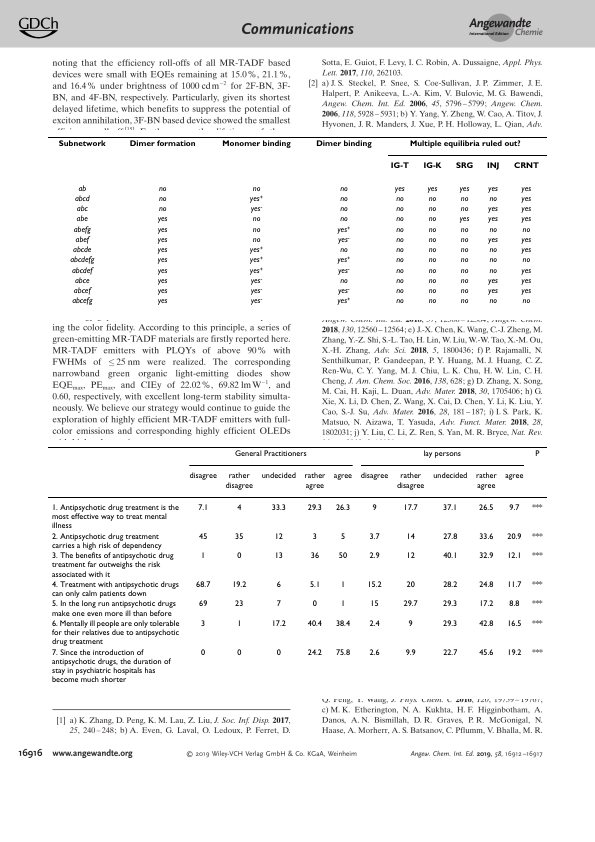borderless: (46, 445, 548, 693), (46, 135, 548, 314)
cell: (50, 648, 171, 685), (50, 619, 180, 647), (50, 503, 179, 531), (50, 551, 174, 580), (50, 599, 176, 619), (50, 580, 179, 599), (50, 532, 162, 551), (408, 140, 521, 149), (233, 449, 307, 459), (221, 140, 291, 149), (128, 140, 196, 149), (395, 472, 425, 491), (224, 472, 253, 491), (315, 140, 372, 149), (57, 140, 106, 149), (303, 472, 326, 491), (474, 472, 497, 491), (422, 449, 461, 459), (260, 472, 296, 481), (432, 472, 468, 481), (359, 472, 389, 481), (188, 472, 217, 481), (513, 162, 539, 171), (69, 256, 95, 265), (70, 266, 93, 276), (71, 297, 93, 306), (72, 225, 91, 235), (332, 472, 353, 481), (504, 472, 524, 481), (389, 162, 409, 171), (422, 162, 442, 171), (454, 162, 474, 171), (72, 246, 92, 255), (72, 287, 91, 296), (334, 619, 351, 629), (334, 648, 351, 658), (73, 194, 90, 204), (73, 276, 90, 286), (270, 503, 286, 513), (306, 503, 322, 513), (334, 503, 350, 513), (402, 503, 418, 513), (442, 503, 458, 513), (478, 503, 494, 513), (442, 532, 458, 542), (478, 532, 494, 542), (506, 532, 522, 542), (442, 551, 458, 561), (478, 551, 494, 561), (506, 551, 522, 561), (195, 580, 211, 590), (231, 580, 247, 590), (366, 580, 382, 590), (442, 580, 458, 590), (478, 580, 494, 590), (506, 580, 522, 590), (402, 599, 418, 609), (442, 599, 458, 609), (478, 599, 494, 609), (270, 619, 286, 629), (306, 619, 322, 629), (442, 619, 458, 629), (478, 619, 494, 629), (506, 619, 522, 629), (306, 648, 322, 658), (442, 648, 458, 658), (478, 648, 494, 658), (506, 648, 522, 658), (74, 235, 90, 245), (249, 194, 264, 204), (336, 225, 351, 235), (249, 266, 264, 276), (249, 276, 263, 286), (485, 162, 500, 171), (249, 246, 264, 255), (249, 256, 264, 265), (336, 256, 351, 265), (336, 297, 351, 306), (337, 235, 350, 245), (337, 266, 350, 276), (249, 205, 263, 214), (249, 287, 263, 296), (249, 297, 263, 306), (197, 503, 209, 513), (508, 503, 520, 513), (531, 503, 543, 513), (368, 532, 380, 542), (531, 532, 543, 542), (368, 551, 380, 561), (531, 551, 543, 561), (308, 580, 320, 590), (531, 580, 543, 590), (508, 599, 520, 609), (531, 599, 543, 609), (368, 619, 380, 629), (531, 619, 543, 629), (368, 648, 380, 658), (404, 648, 416, 658), (531, 648, 543, 658), (426, 184, 438, 194), (458, 184, 470, 194), (520, 184, 532, 194), (520, 194, 532, 204), (156, 225, 168, 235), (156, 235, 168, 245), (520, 235, 532, 245), (156, 266, 168, 276), (520, 266, 532, 276), (156, 276, 168, 286), (520, 276, 532, 286), (75, 205, 88, 214), (75, 215, 88, 224), (337, 287, 350, 296), (309, 551, 320, 561), (337, 551, 348, 561), (394, 184, 405, 194), (487, 184, 498, 194), (487, 235, 498, 245), (487, 276, 498, 286), (520, 205, 532, 214), (156, 215, 168, 224), (458, 215, 470, 224), (520, 215, 532, 224), (156, 246, 168, 255), (520, 246, 532, 255), (156, 256, 168, 265), (156, 287, 168, 296), (520, 287, 532, 296), (156, 297, 168, 306), (198, 532, 208, 542), (234, 532, 244, 542), (273, 532, 283, 542), (405, 532, 415, 542), (273, 551, 283, 561), (405, 551, 415, 561), (405, 580, 415, 590), (198, 599, 208, 609), (234, 599, 244, 609), (369, 599, 379, 609), (77, 184, 87, 194), (157, 184, 167, 194), (251, 184, 261, 194), (157, 194, 167, 204), (427, 194, 437, 204), (459, 194, 469, 204), (251, 225, 261, 235), (427, 225, 437, 235), (459, 225, 469, 235), (521, 225, 531, 235), (251, 235, 261, 245), (427, 235, 437, 245), (459, 235, 469, 245), (427, 266, 437, 276), (459, 266, 469, 276), (427, 276, 437, 286), (459, 276, 469, 286), (487, 205, 498, 214), (487, 215, 498, 224), (487, 287, 498, 296), (339, 184, 348, 194), (339, 194, 348, 204), (395, 194, 404, 204), (488, 194, 497, 204), (157, 205, 167, 214), (427, 205, 437, 214), (459, 205, 469, 214), (251, 215, 261, 224), (427, 215, 437, 224), (395, 225, 404, 235), (488, 225, 497, 235), (395, 235, 404, 245), (427, 246, 437, 255), (459, 246, 469, 255), (427, 256, 437, 265), (459, 256, 469, 265), (521, 256, 531, 265), (395, 266, 404, 276), (488, 266, 497, 276), (339, 276, 348, 286), (395, 276, 404, 286), (427, 287, 437, 296), (459, 287, 469, 296), (427, 297, 437, 306), (459, 297, 469, 306), (521, 297, 531, 306), (339, 205, 348, 214), (395, 205, 404, 214), (339, 215, 348, 224), (395, 215, 404, 224), (339, 246, 348, 255), (395, 246, 404, 255), (488, 246, 497, 255), (395, 256, 404, 265), (488, 256, 497, 265), (395, 287, 404, 296), (395, 297, 404, 306), (488, 297, 497, 306), (339, 532, 346, 542), (339, 580, 346, 590), (339, 599, 346, 609), (534, 449, 540, 459), (236, 503, 242, 513), (371, 503, 377, 513), (311, 532, 317, 542), (200, 551, 206, 561), (236, 551, 242, 561), (275, 580, 281, 590), (275, 599, 281, 609), (311, 599, 317, 609), (200, 619, 206, 629), (236, 619, 242, 629), (407, 619, 413, 629), (200, 648, 206, 658), (236, 648, 242, 658), (275, 648, 281, 658)
